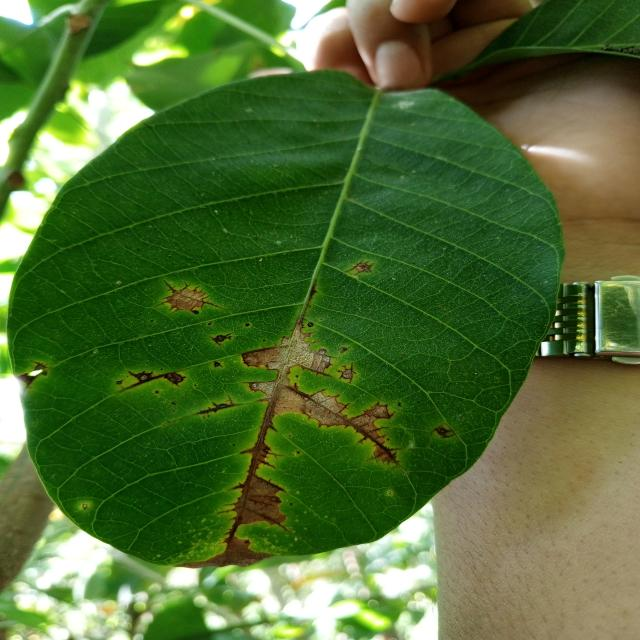Colletotrichum: (307, 322, 314, 327), (192, 310, 200, 314), (116, 380, 122, 384), (245, 323, 250, 327), (208, 322, 212, 326), (155, 391, 159, 394), (387, 438, 390, 441)
Corynespora: (288, 384, 402, 465), (217, 418, 289, 535), (153, 280, 228, 314), (124, 370, 187, 390), (196, 394, 240, 414), (344, 258, 374, 275), (337, 362, 357, 383), (299, 365, 331, 378), (430, 423, 455, 439), (209, 332, 233, 347), (241, 346, 275, 355), (32, 360, 49, 370), (338, 346, 352, 354)
Leaf-Blight: (246, 328, 348, 426), (173, 537, 275, 568)
